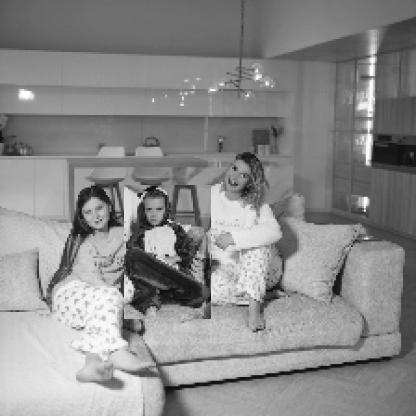child: (125, 186, 213, 321)
